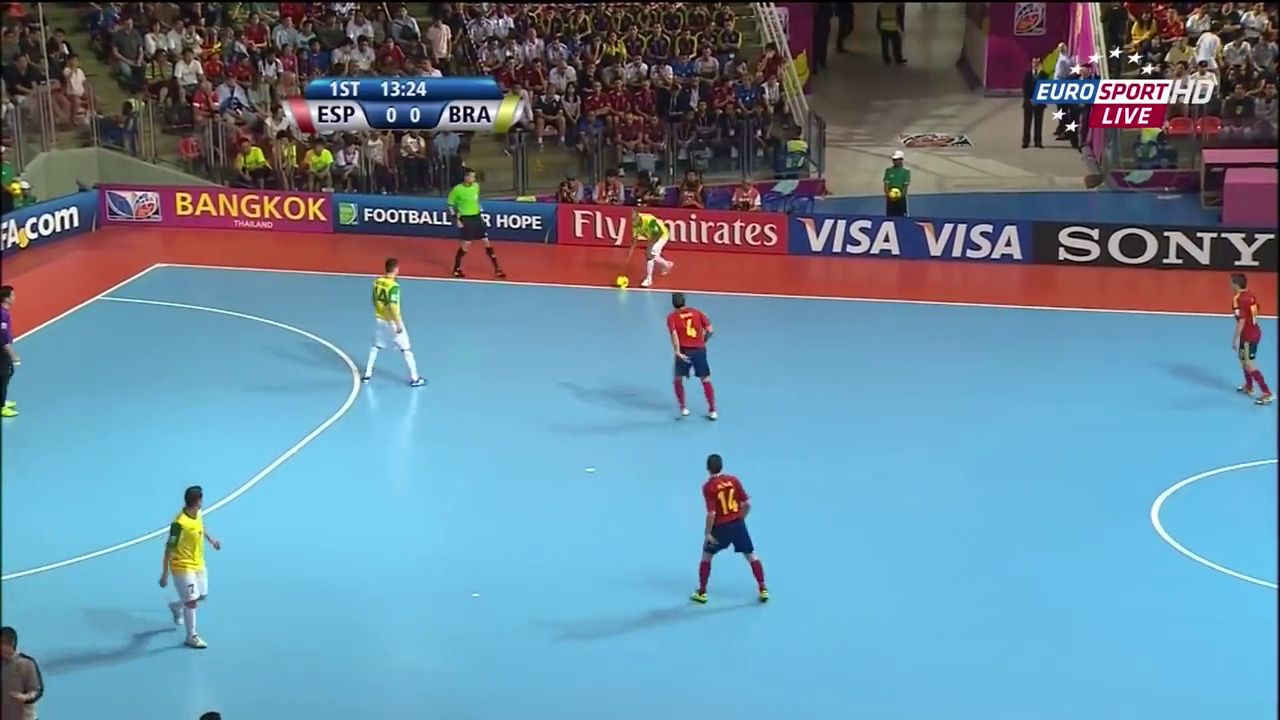person: (692, 452, 769, 607), (158, 489, 216, 649), (358, 258, 424, 391), (661, 296, 715, 420), (1226, 267, 1272, 408), (617, 206, 675, 286), (1, 290, 20, 403)
